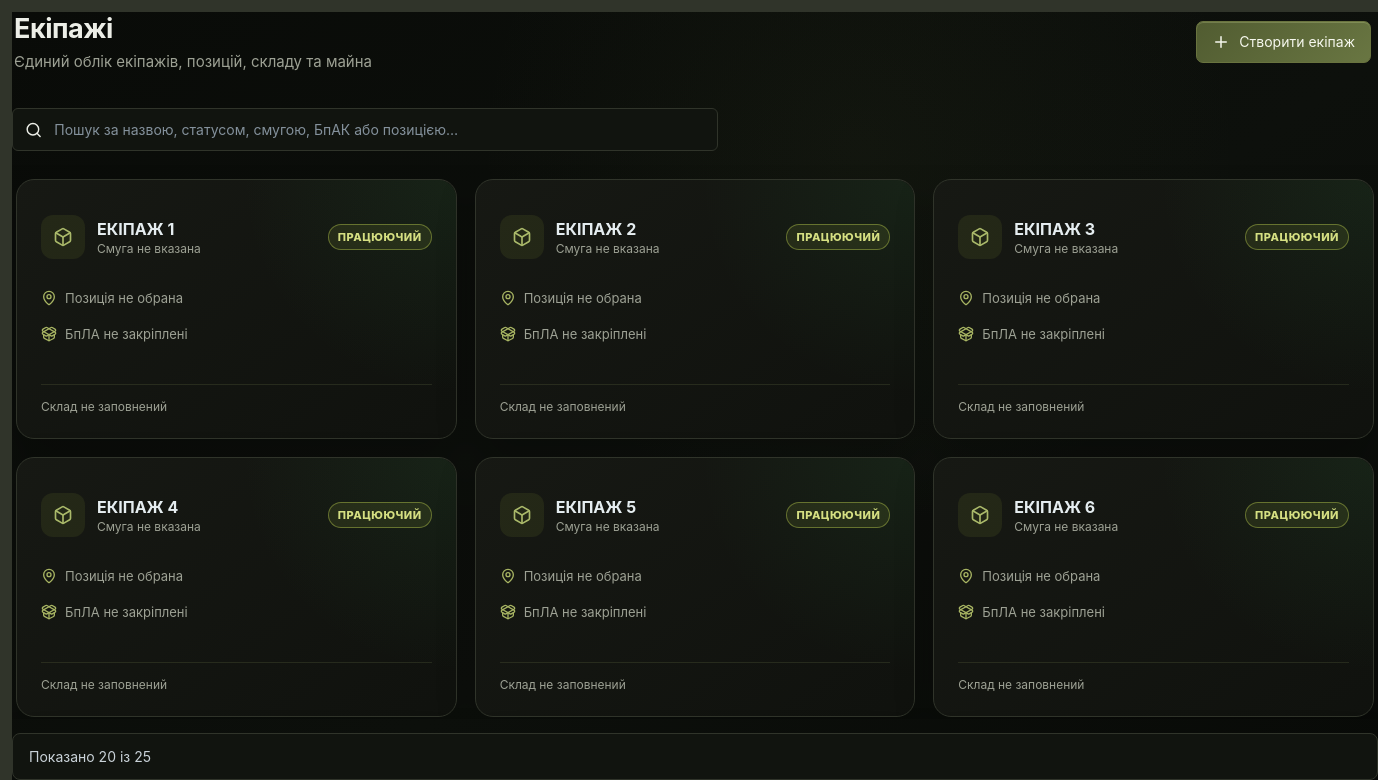
Test case: Склад екіпажу › обмежує картки двадцятьма, але шукає серед усього переліку
Expected: the text "Показано 20 із 25" is shown, [12,733,1377,779]
Expected: the text "ЕКІПАЖ 25" is not shown
Type "ЕКІПАЖ 25" into the field with placeholder "Пошук за назвою, статусом, смугою, БпАК або позицією…".
click(379, 130); type("ЕКІПАЖ 25")  # box [52,120,705,139]
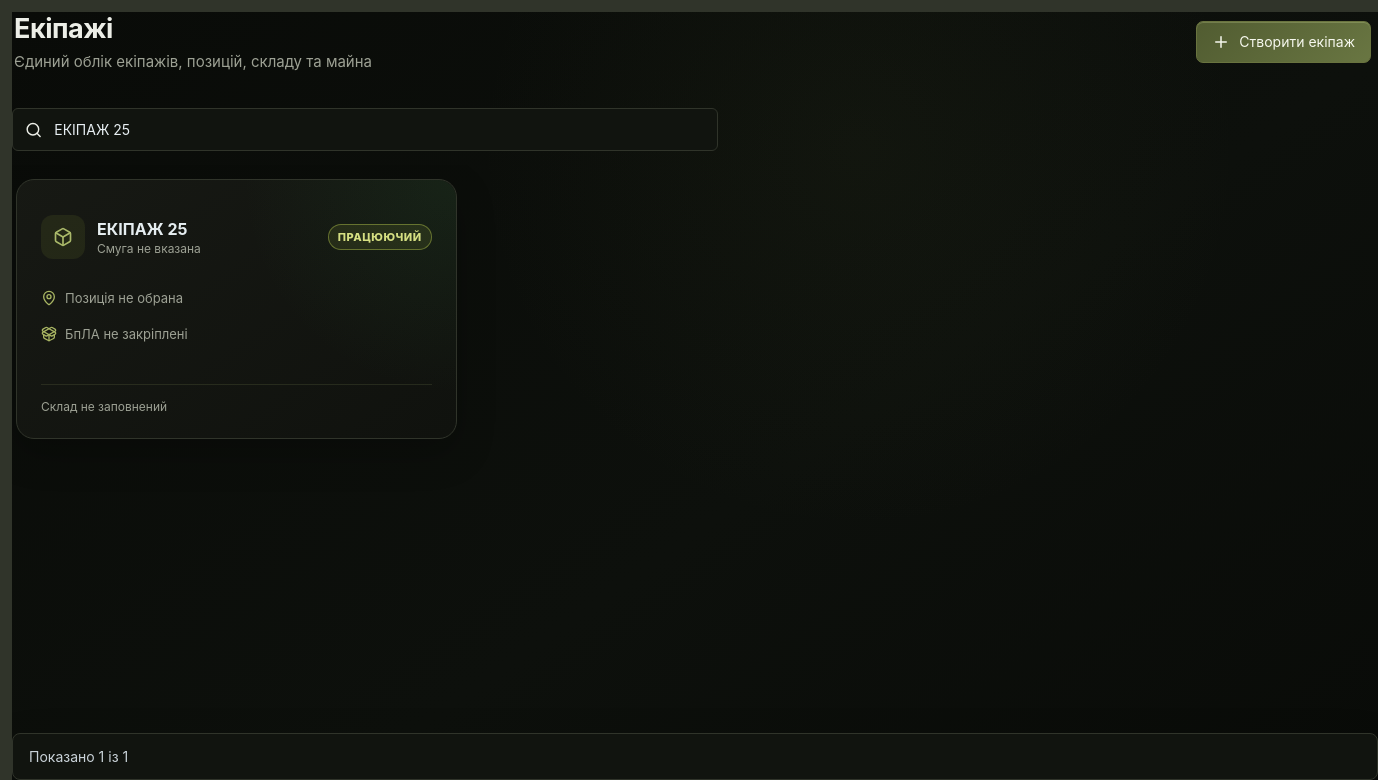
Expected: the heading "ЕКІПАЖ 25" is shown, [97,219,188,239]
Expected: the text "Показано 1 із 1" is shown, [12,733,1377,779]
